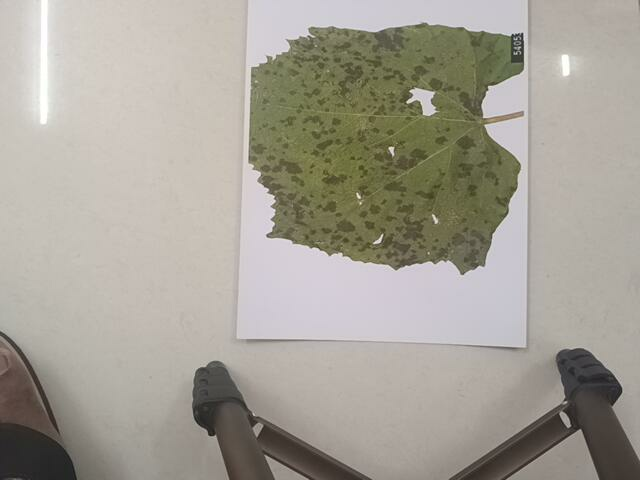Grape_Blight_Leaf: (250, 22, 529, 275)
